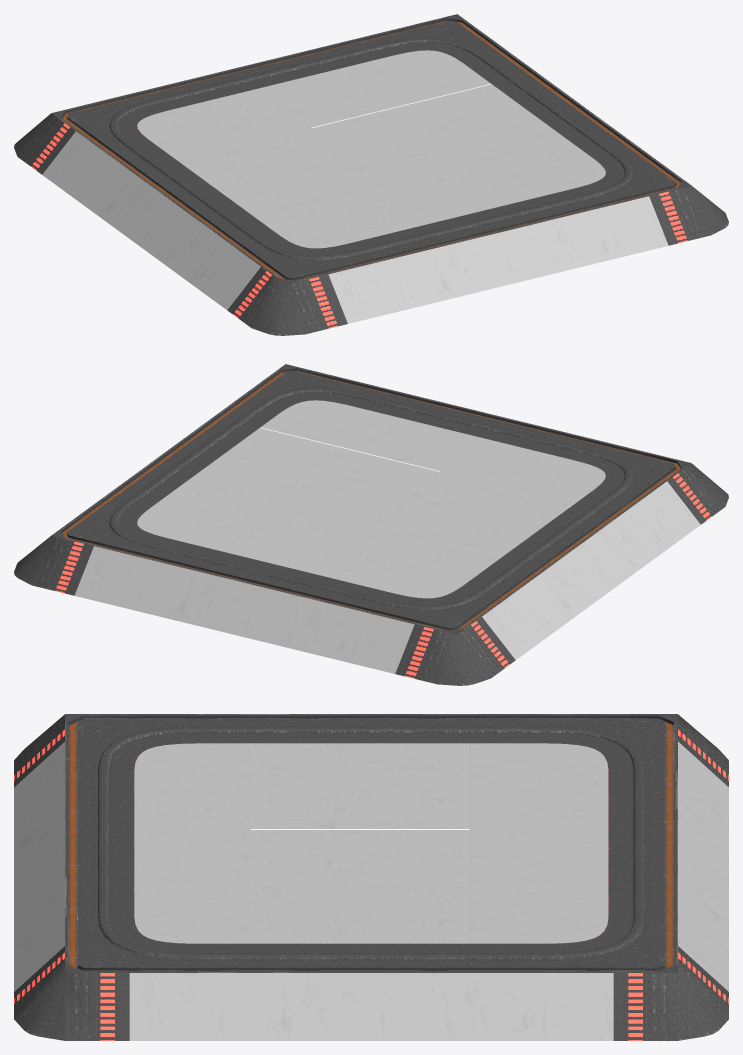
Rendered from PillarPlatform.fbx.
3 views of the same model, one above another, from view 1: azimuth 30°, elevation 25°; view 2: azimuth 150°, elevation 25°; view 3: azimuth 270°, elevation 25° (orthographic). The views are drawn at different scales.
Visible parts, largest first — view 1: FloorInner, Ramps.003, FloorOuter; view 2: FloorInner, Ramps.003, FloorOuter; view 3: FloorInner, Ramps.003, FloorOuter.
Part boxes in pixels (bbox=[...]): FloorInner: bbox=[137, 50, 605, 248]; Ramps.003: bbox=[14, 113, 728, 335]; FloorOuter: bbox=[51, 14, 691, 284]; FloorInner: bbox=[137, 400, 605, 598]; Ramps.003: bbox=[14, 463, 728, 685]; FloorOuter: bbox=[51, 364, 691, 634]; FloorInner: bbox=[134, 743, 608, 943]; Ramps.003: bbox=[14, 714, 728, 1040]; FloorOuter: bbox=[65, 714, 677, 972].
Size of the model in its own units: 1400 by 105 by 1400.
